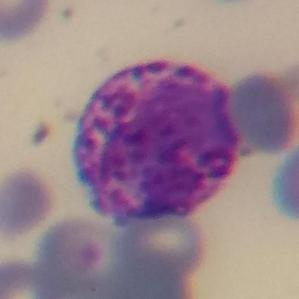Basophil: (68, 57, 241, 222)
Platelets: (29, 120, 52, 148)
RBC: (35, 247, 193, 299), (229, 64, 299, 156), (122, 207, 212, 275), (33, 212, 115, 279), (0, 165, 60, 241), (268, 135, 299, 225), (0, 0, 58, 45), (0, 257, 57, 299)
